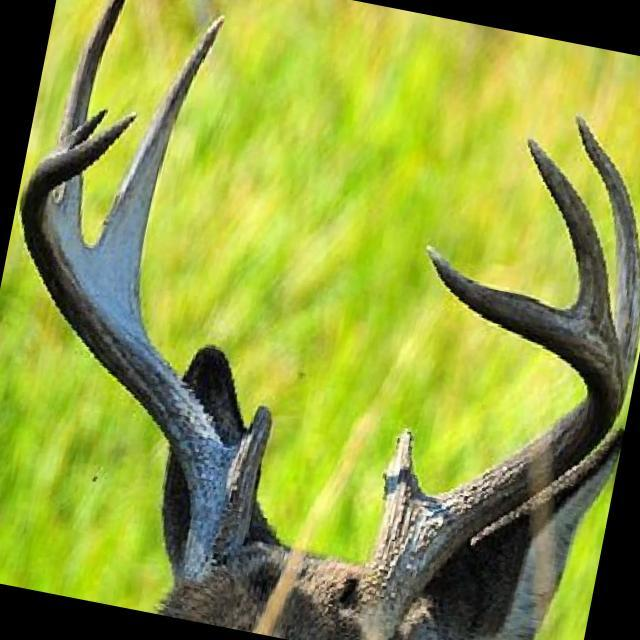L-F: (342, 244, 624, 640)
L-G1: (380, 429, 428, 524)
L-G3: (526, 137, 616, 333)
R-F: (17, 113, 243, 581)
R-G1: (221, 405, 273, 533)
R-G2: (95, 14, 225, 302)
